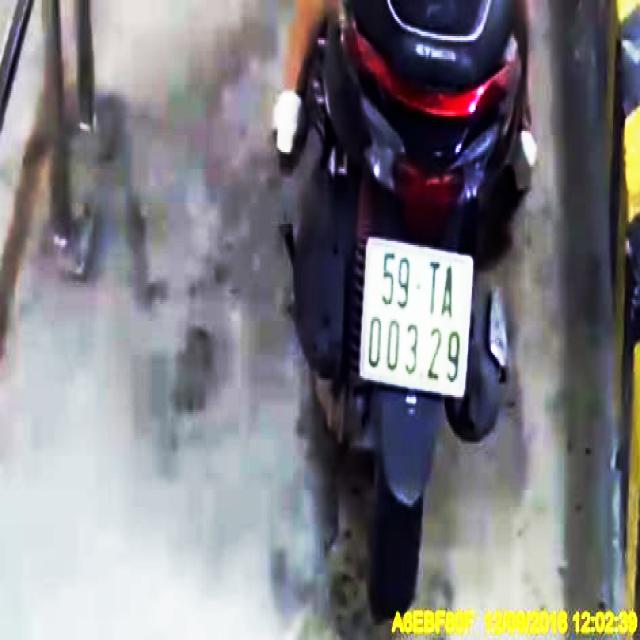license_plate: (360, 241, 478, 399)
